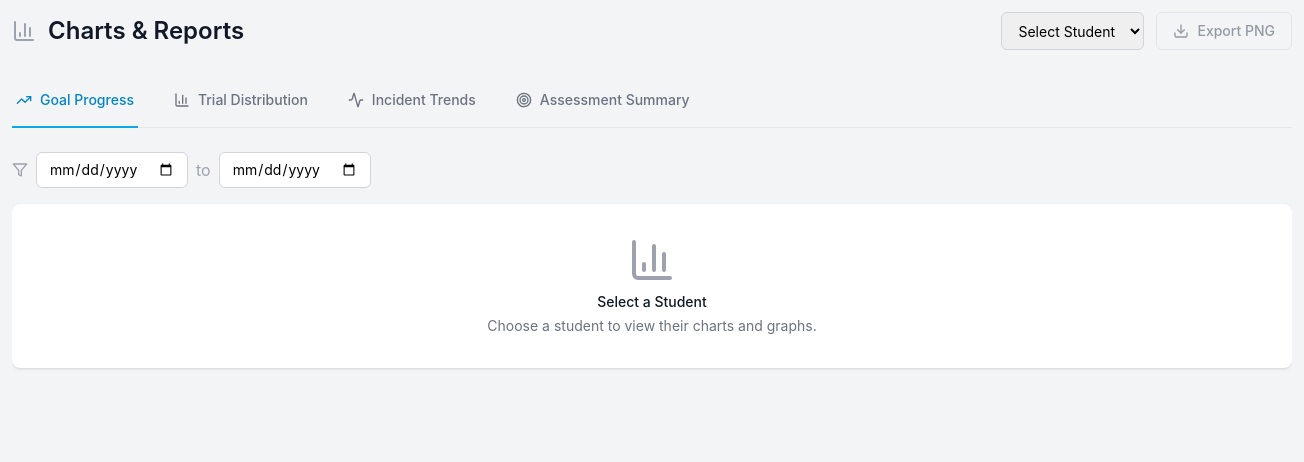
Test: ChartsPage › switches to incidents chart
This screenshot has width=1304, height=462.
Select "Alice Johnson" in the dropdown at (1073, 31), box [1002,12,1144,50]
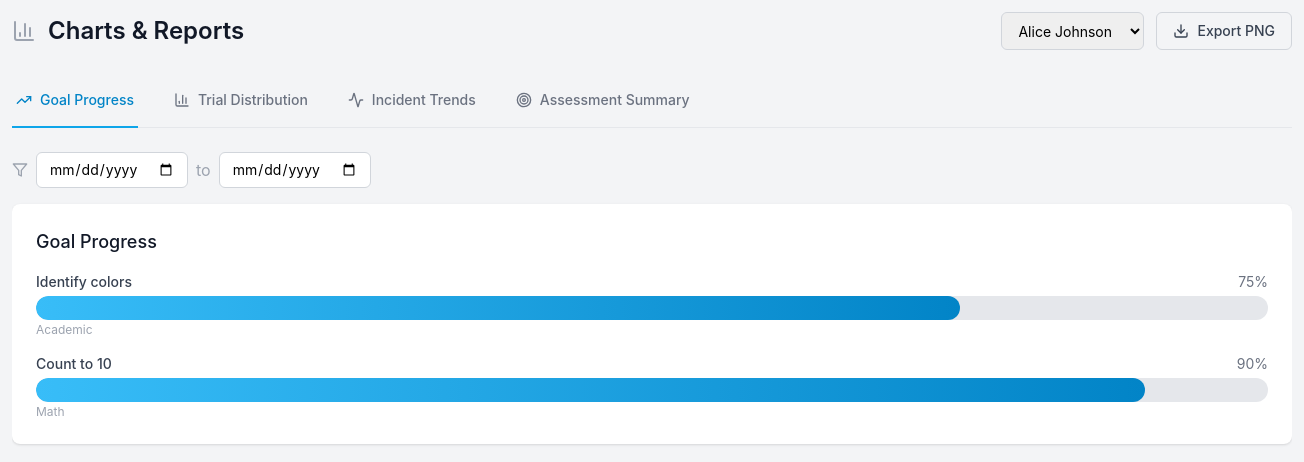
Expected: the text "Identify colors" is shown, [36,273,132,290]
Click the button "Incident Trends".
click(412, 101)  # box [344,74,480,128]
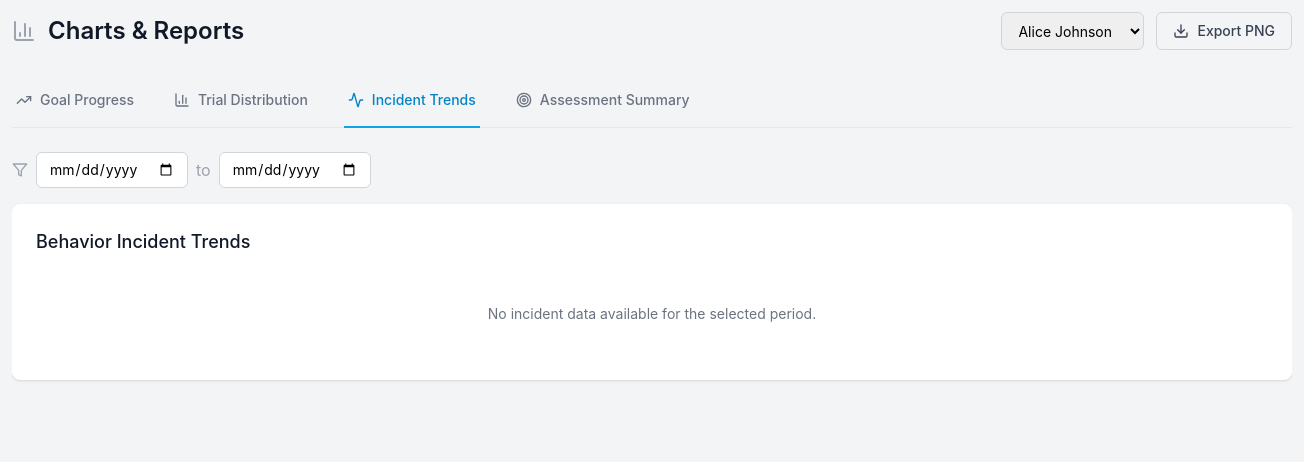
Expected: the heading "Behavior Incident Trends" is shown, [36,231,250,252]
